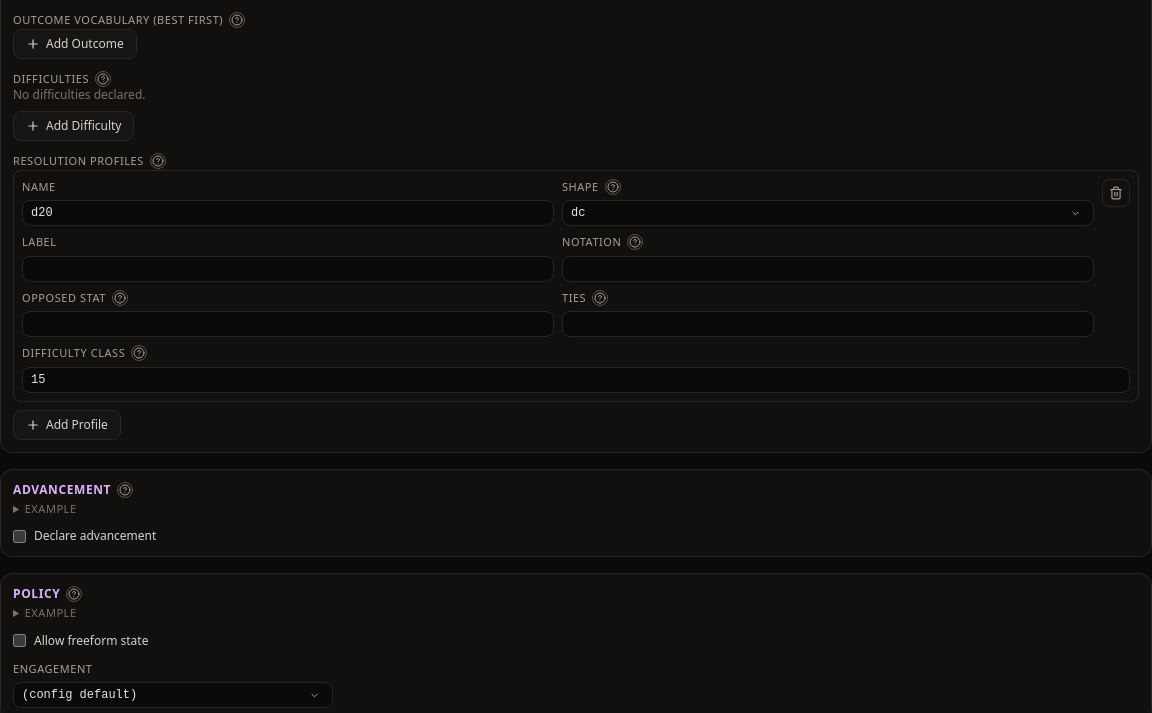
Scenario: MechanicsEditor › explains a field when its help is opened
(page scrolled)
Click the button named "help: difficulty class" at (139, 353), box [131,345,147,361]
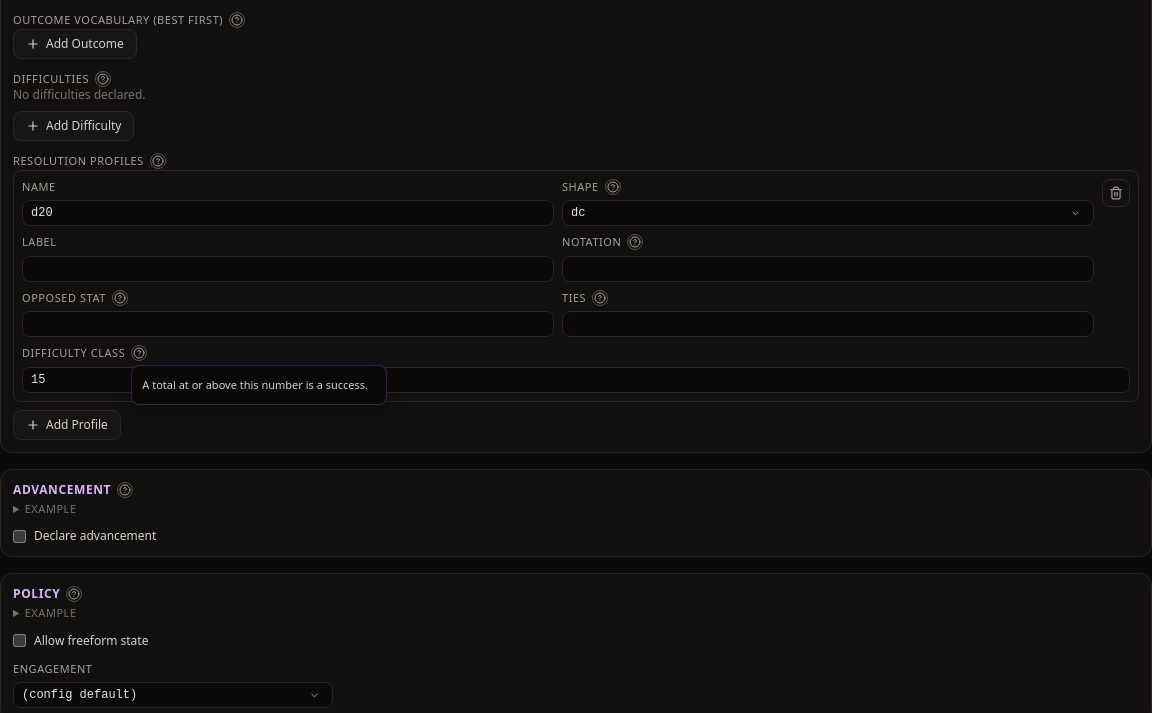
Check: the tooltip shows "at or above this number is a success", box [142,377,368,392]
